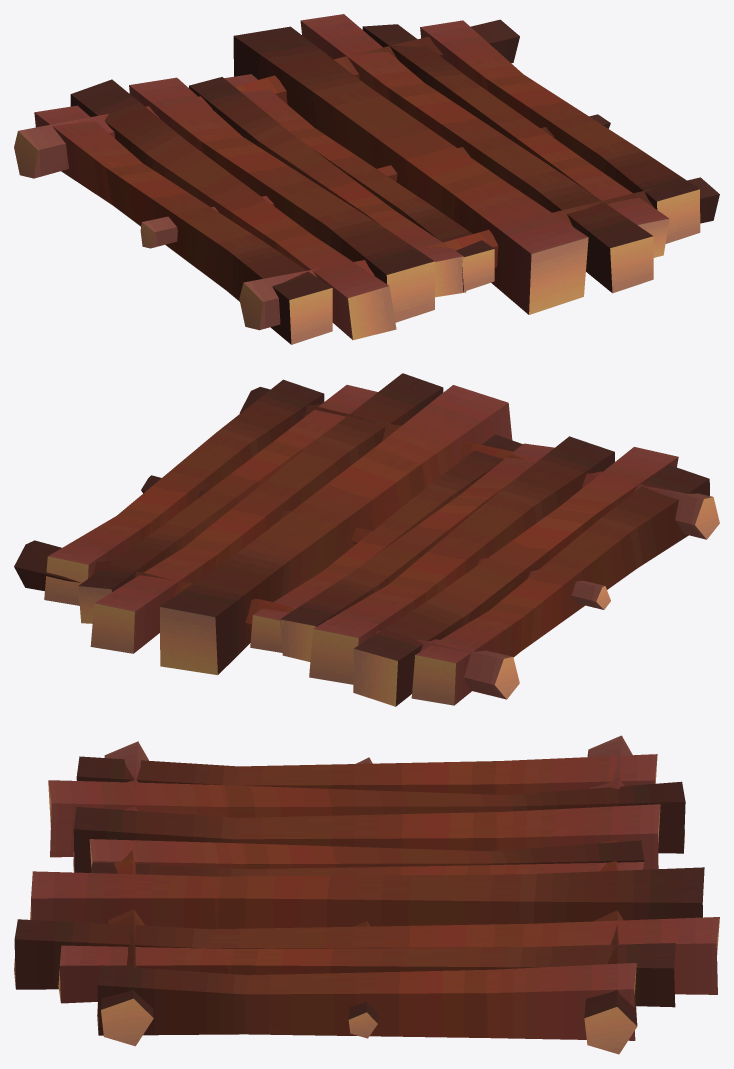
File: Platform.FBX
3 renders of one model, top to bottom at view 1: azimuth 30°, elevation 25°; view 2: azimuth 150°, elevation 25°; view 3: azimuth 270°, elevation 25°, orthographic. The views are drawn at different scales.
Parts seen in each view (by area): view 1: Platform; view 2: Platform; view 3: Platform.
Part boxes in pixels (x1,y1,x2,y2): Platform: [14, 14, 719, 344]; Platform: [14, 373, 719, 706]; Platform: [14, 735, 719, 1054].
Size of the model in its own units: 0.5784 by 0.64 by 0.0728.
